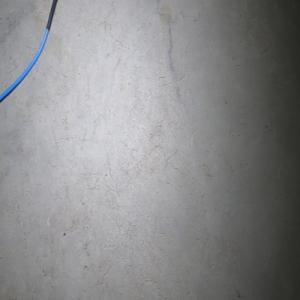Wire: (0, 0, 57, 102)
